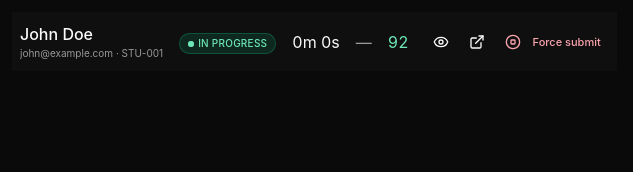
Test: ParticipantRow navigation › navigates to the candidate detail page on row click
Click the row at (314, 42), box [12,12,617,71]
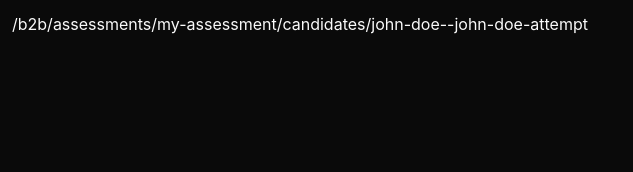
Now the text with test id "location" reads "/b2b/assessments/my-assessment/candidates/john-doe--john-doe-attempt", box [12,14,588,34]
